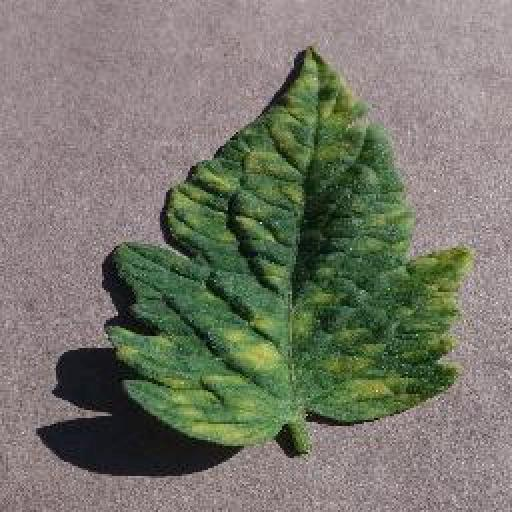disease_tomato: (108, 46, 470, 446)
